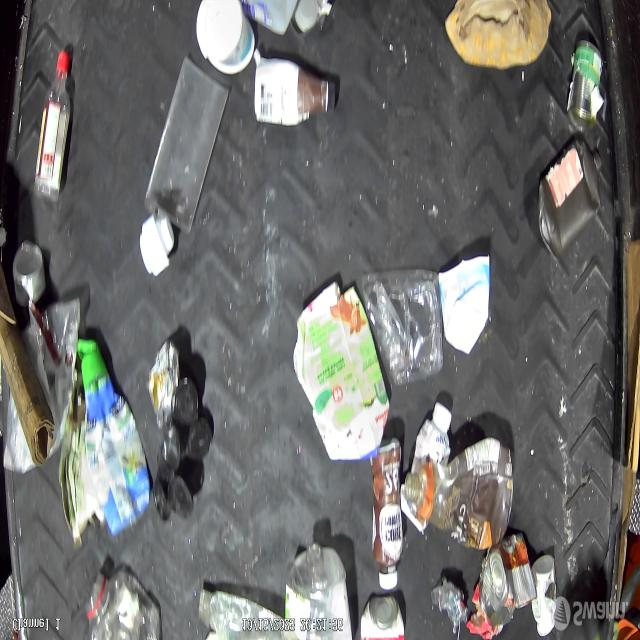can: (490, 532, 538, 609), (567, 35, 603, 134), (12, 238, 47, 308), (478, 565, 515, 629), (360, 595, 405, 640)
non_white_jug: (537, 133, 603, 256)
plastic_bottle: (197, 589, 285, 640)
